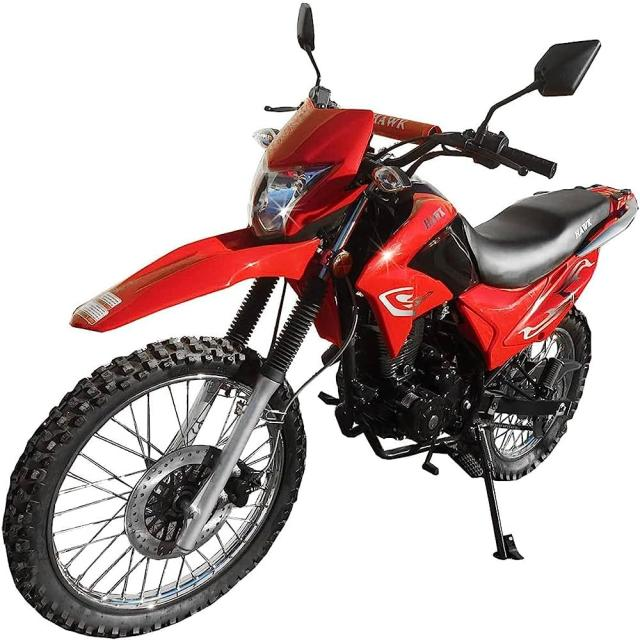Motorcycle: (3, 41, 639, 636)
